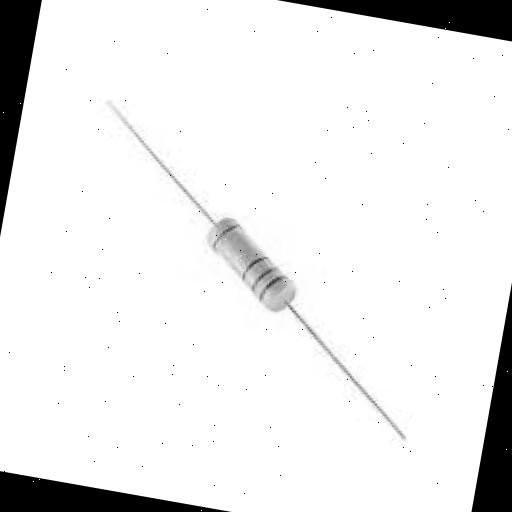RESISTOR: (96, 174, 352, 391)
